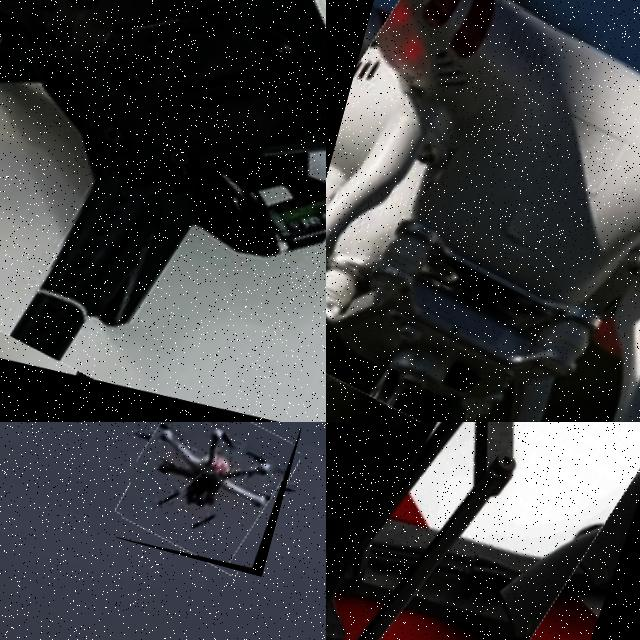0: (115, 422, 301, 576)
drone: (0, 0, 326, 422), (326, 0, 640, 422), (326, 422, 640, 640)
